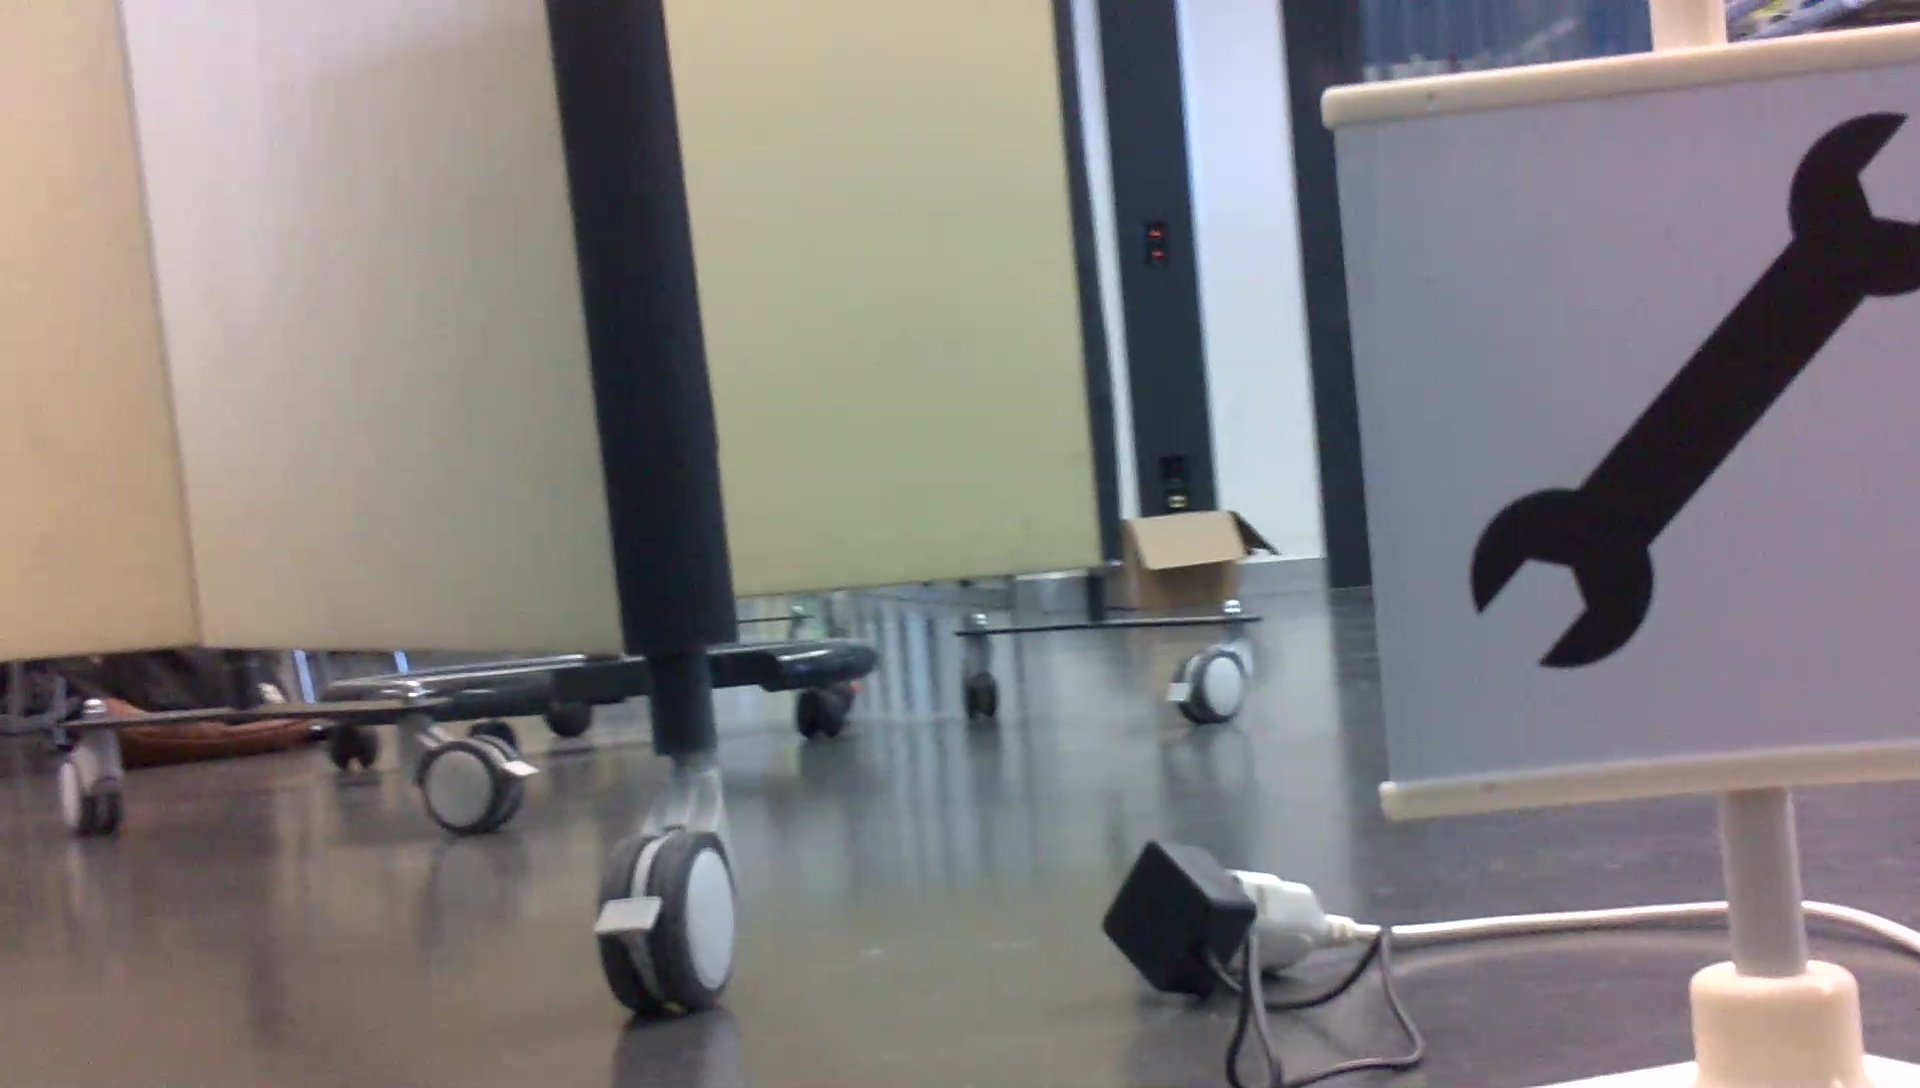wrench: (1455, 95, 1920, 677)
